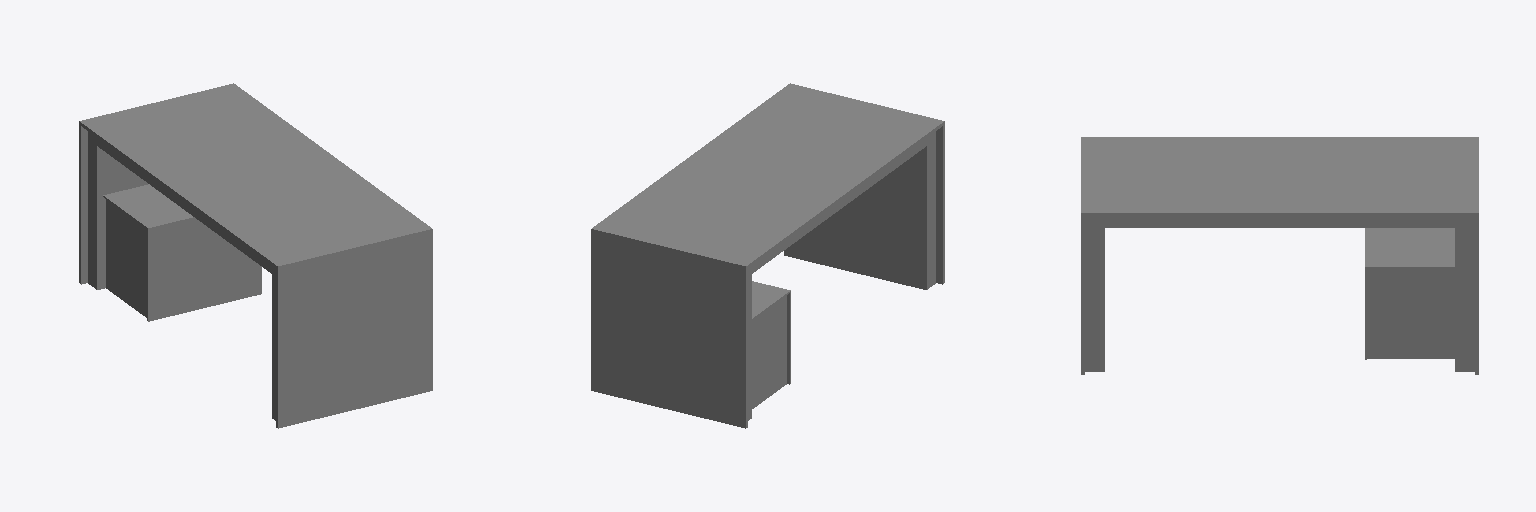
File: Desk.obj
The picture shows the model from 3 angles: view 1: azimuth 30°, elevation 25°; view 2: azimuth 150°, elevation 25°; view 3: azimuth 270°, elevation 25°; orthographic projection.
Parts seen in each view (by area): view 1: Desk; view 2: Desk; view 3: Desk.
Boxes of the visible parts, x1,y1,x2,y2 form: Desk: [79, 83, 432, 428]; Desk: [591, 83, 944, 428]; Desk: [1081, 137, 1478, 374].
Size of the model in its own units: 35.43 by 35.43 by 78.74.